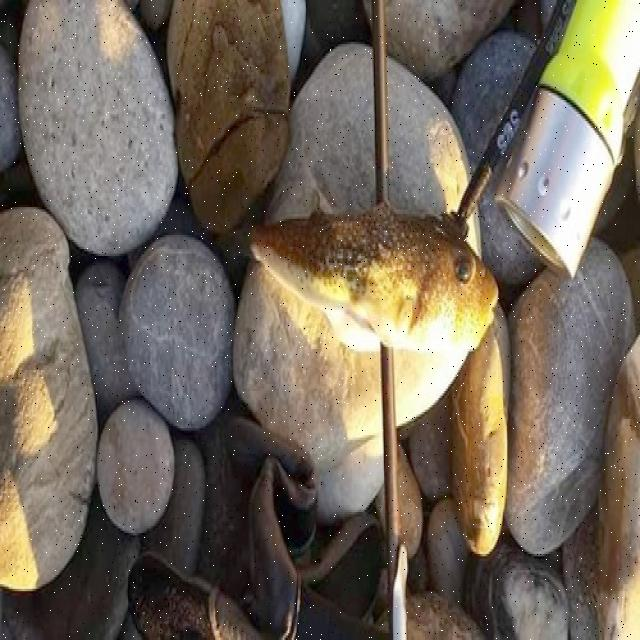Balik: (251, 205, 497, 351)
